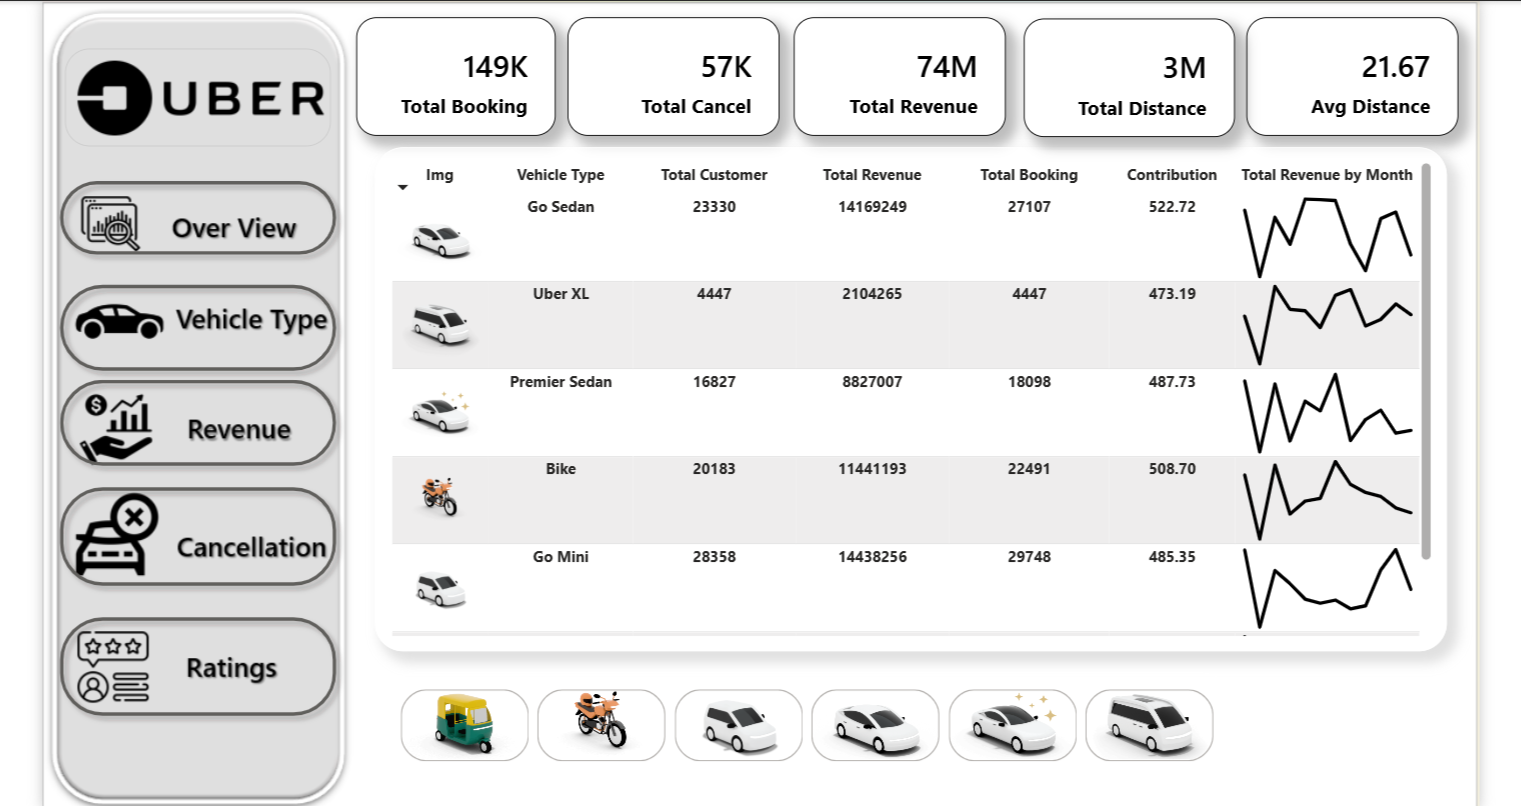

What the dashboard file says about the page in this screenshot:
{"tool":"powerbi","page":{"name":"Revenue","canvas":[1280,720],"ordinal":3},"visuals":[{"type":"actionButton","box":[6.1,150.9,263.8,83.4],"z":0},{"type":"actionButton","box":[6.1,244.2,263.8,94.5],"z":1000},{"type":"actionButton","box":[6.1,328.8,263.8,94.5],"z":2000},{"type":"actionButton","box":[6.1,424.5,263.8,105.5],"z":3000},{"type":"actionButton","box":[6.1,539.9,263.8,105.5],"z":4000},{"type":"actionButton","box":[20,42.9,237.1,87.1],"z":5000},{"type":"cardVisual","fields":{"Data":["_Measures.Total Booking"]},"box":[279.8,14.7,177.9,105.5],"z":6000},{"type":"cardVisual","fields":{"Data":["_Measures.Total Cancel Rides"]},"box":[467.5,14.7,189,105.5],"z":7000},{"type":"cardVisual","fields":{"Data":["_Measures.Total Revenue"]},"box":[668.7,14.7,189,105.5],"z":8000},{"type":"cardVisual","fields":{"Data":["_Measures.Avg Distance"]},"box":[1072.4,14.7,189,105.5],"z":9000},{"type":"tableEx","fields":{"Values":["Uber_Image.Img","Uber_dataset.Vehicle Type","_Measures.Total Customer","_Measures.Total Revenue","_Measures.Total Booking","_Measures.Contribution","SparklineData(_Measures.Total Revenue_[_Date.Month])"]},"box":[295.7,130.1,954.6,449.1],"z":10000},{"type":"advancedSlicerVisual","fields":{"Values":["Uber_Image.Vehicle Type"]},"box":[304.3,597.5,757.1,94.5],"z":11000},{"type":"cardVisual","fields":{"Data":["_Measures.Total Distance"]},"box":[874.1,15.1,188,105.7],"z":12000}]}

Visuals, with their boxes on the page's 1280x720 design canvas (x1, y1, x2, y2). These are canvas units, not pixel positions in the 1521x806 screenshot, which may show the page scaled, cropped or inside an application window:
actionButton: detection(6, 151, 270, 234)
actionButton: detection(6, 244, 270, 339)
actionButton: detection(6, 329, 270, 423)
actionButton: detection(6, 424, 270, 530)
actionButton: detection(6, 540, 270, 645)
actionButton: detection(20, 43, 257, 130)
cardVisual - _Measures.Total Booking: detection(280, 15, 458, 120)
cardVisual - _Measures.Total Cancel Rides: detection(468, 15, 656, 120)
cardVisual - _Measures.Total Revenue: detection(669, 15, 858, 120)
cardVisual - _Measures.Avg Distance: detection(1072, 15, 1261, 120)
tableEx - Uber_Image.Img x Uber_dataset.Vehicle Type: detection(296, 130, 1250, 579)
advancedSlicerVisual - Uber_Image.Vehicle Type: detection(304, 598, 1061, 692)
cardVisual - _Measures.Total Distance: detection(874, 15, 1062, 121)
